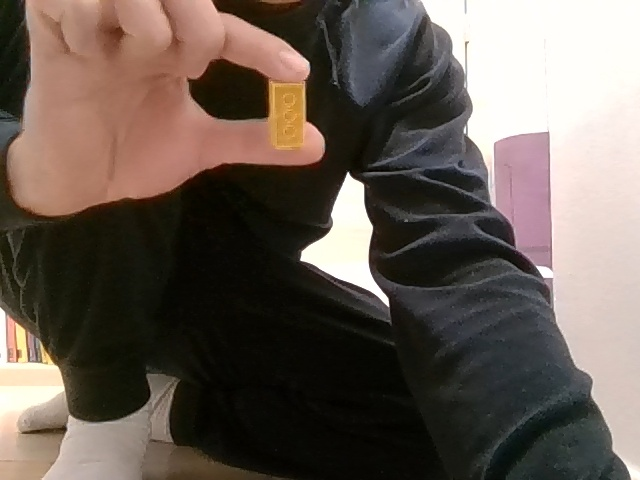lego: (266, 73, 307, 148)
